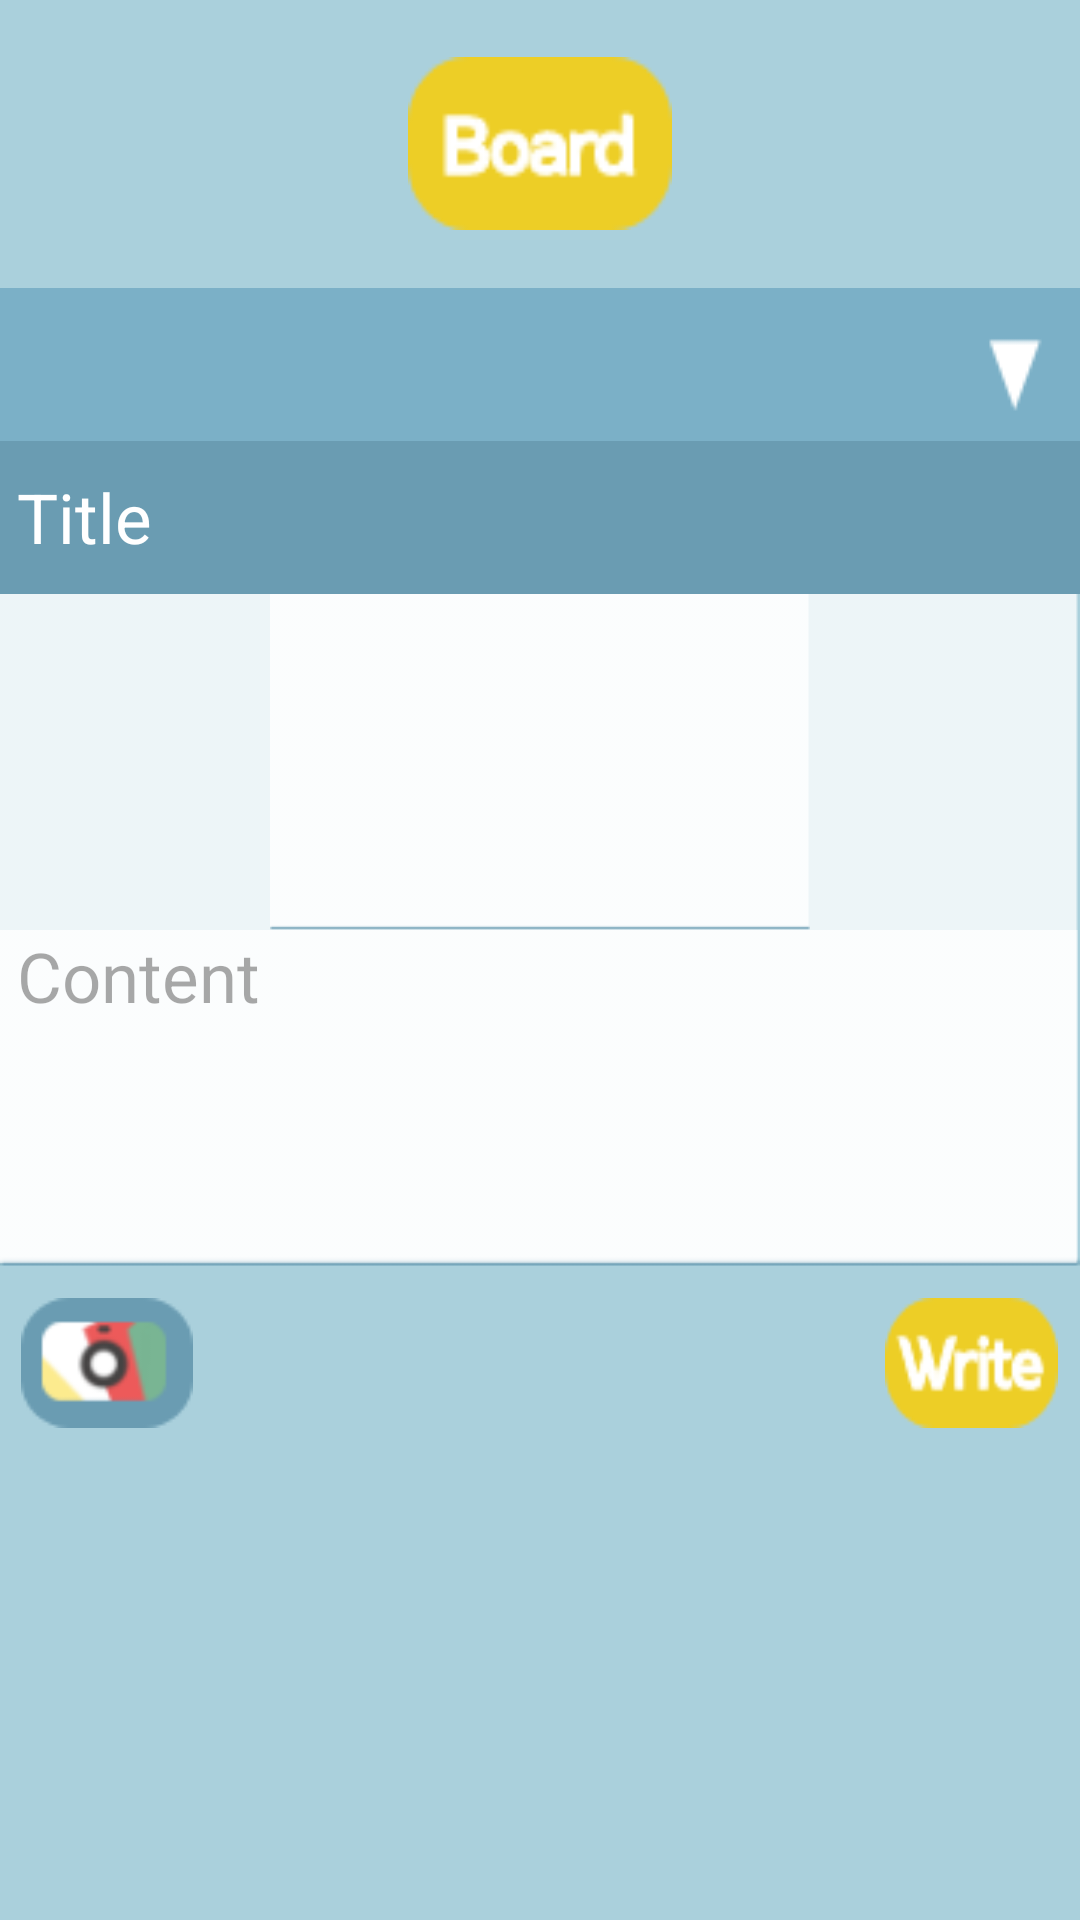

Locate icon controls on the screen. Image size 1080px×1920px, boxes as (x1, y1, x2, y2).
camera: (21, 1298, 193, 1428)
